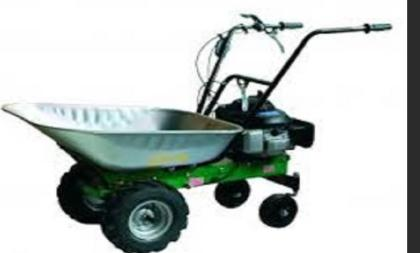BROUETTE: (0, 5, 403, 253)
